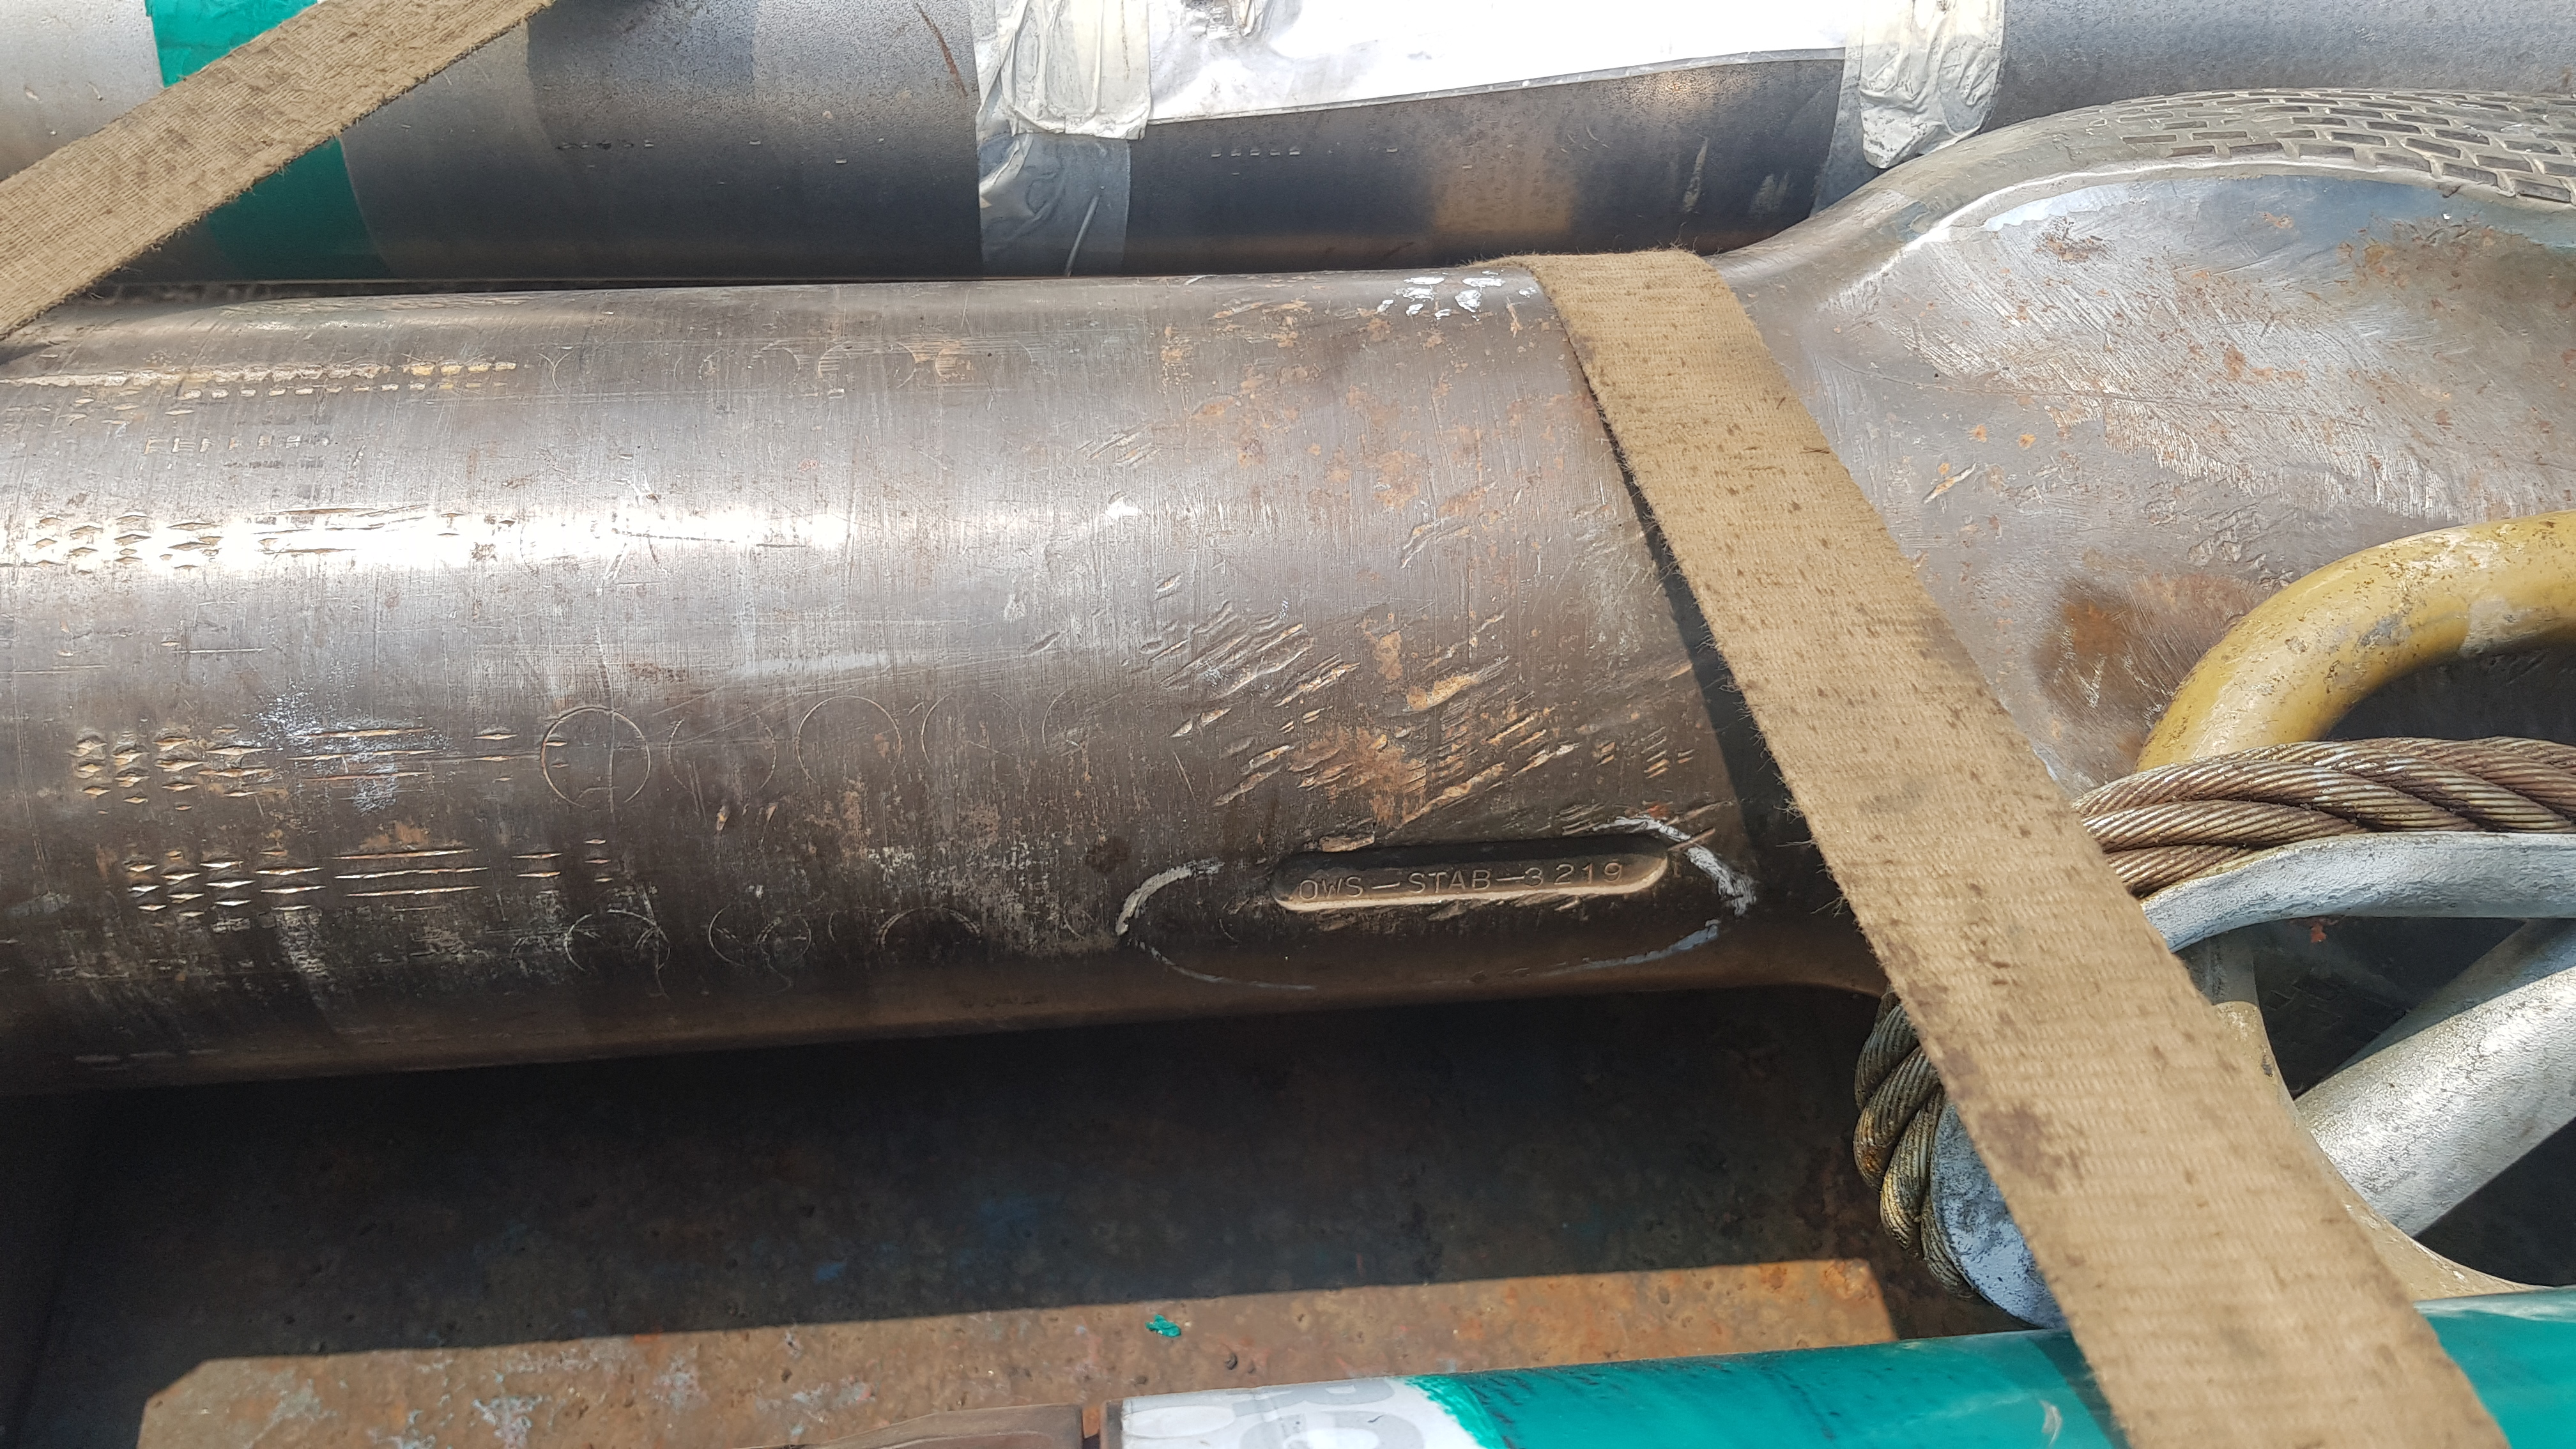character: (1320, 876, 1345, 902), (1445, 869, 1468, 893), (1426, 870, 1447, 895), (1553, 862, 1575, 886), (1297, 879, 1318, 902), (1405, 872, 1426, 895), (1470, 869, 1491, 892), (1523, 867, 1546, 888), (1601, 862, 1622, 885), (1345, 874, 1364, 899), (1580, 862, 1596, 886), (1493, 874, 1527, 885), (1369, 881, 1403, 890)
